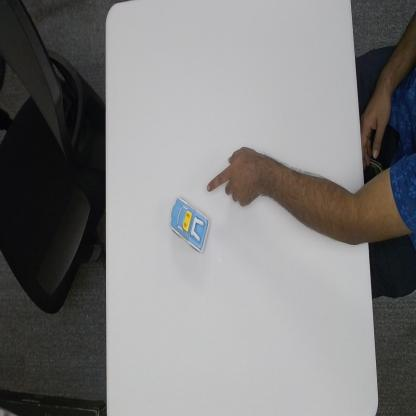Arm: (262, 157, 365, 254)
Car: (168, 195, 211, 252)
Hand: (206, 142, 261, 211)
